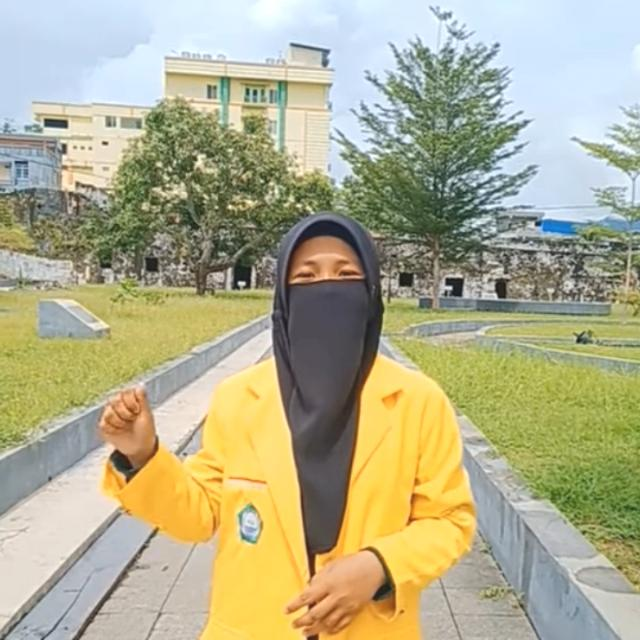A: (95, 381, 157, 467)
